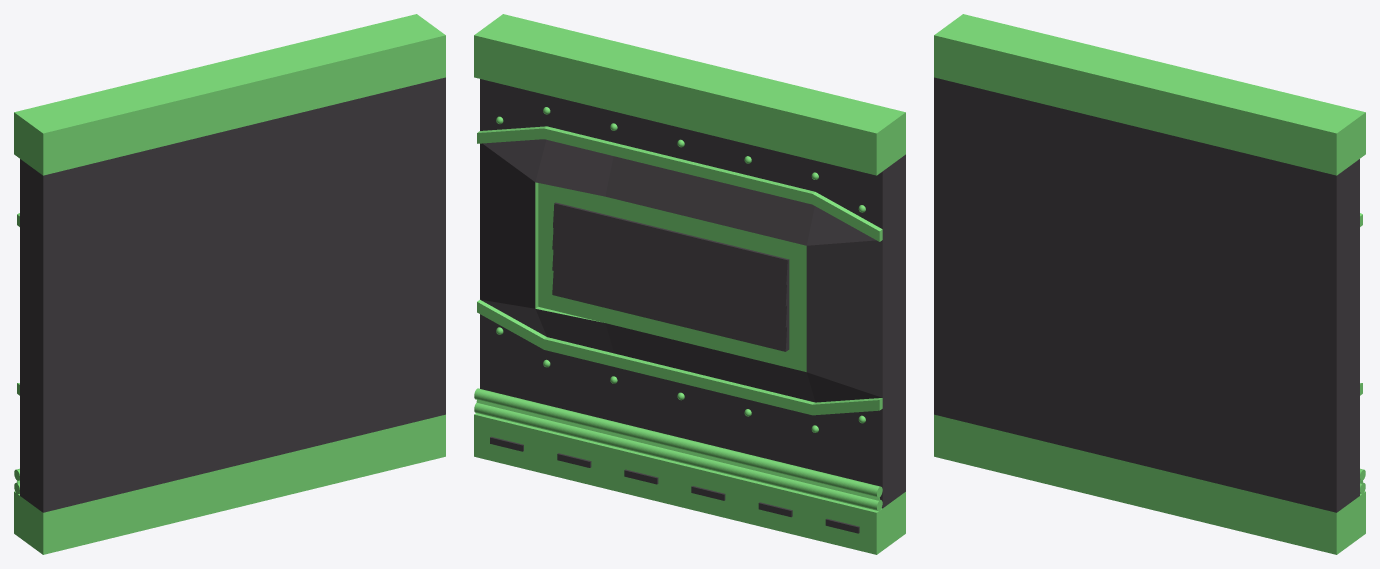
File: Wall_Basic_B.fbx
3 renders of one model, left to right at view 1: azimuth 30°, elevation 25°; view 2: azimuth 150°, elevation 25°; view 3: azimuth 330°, elevation 25°, orthographic.
Visible parts, largest first — view 1: Wall_Basic_B; view 2: Wall_Basic_B; view 3: Wall_Basic_B.
Boxes of the visible parts, x1,y1,x2,y2 form: Wall_Basic_B: (14, 14, 445, 554); Wall_Basic_B: (474, 14, 905, 554); Wall_Basic_B: (934, 14, 1365, 554).
Size of the model in its own units: 200 by 200 by 30.61.
